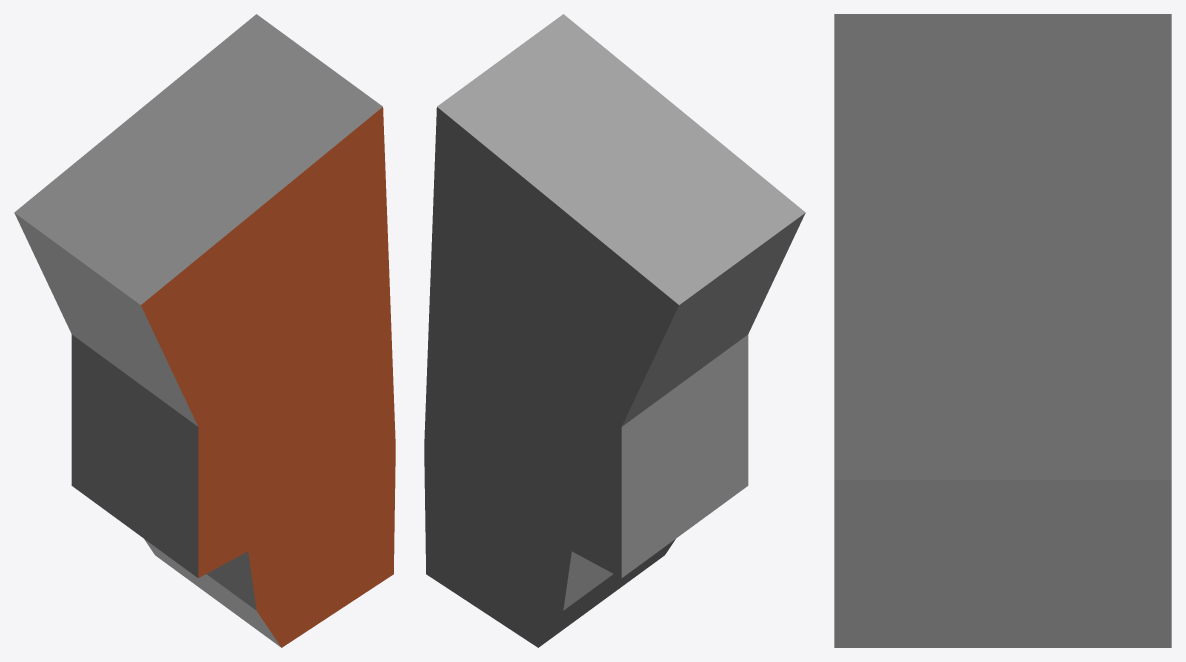
File: construction_3041_assumed_A_Casa_h6m.obj
The picture shows the model from 3 angles, left to right: view 1: azimuth 30°, elevation 25°; view 2: azimuth 150°, elevation 25°; view 3: azimuth 270°, elevation 25°; orthographic projection. The views are drawn at different scales.
Visible parts, largest first — view 1: construction_3041_assumed_A_Casa; view 2: construction_3041_assumed_A_Casa; view 3: construction_3041_assumed_A_Casa.
Part boxes in pixels (left/top/right/bottom): construction_3041_assumed_A_Casa: left=14, top=14, right=395, bottom=647; construction_3041_assumed_A_Casa: left=424, top=14, right=805, bottom=647; construction_3041_assumed_A_Casa: left=834, top=14, right=1171, bottom=647.
Size of the model in its own units: 6.98 by 13.51 by 6.
